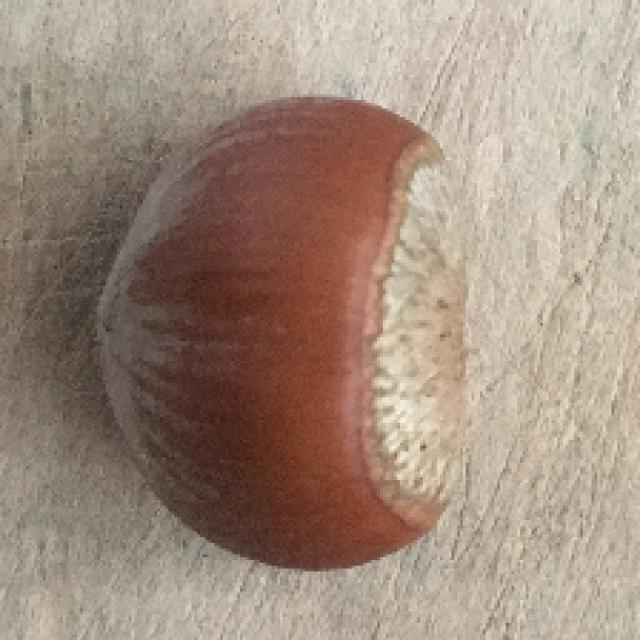qualityHazelnut: (88, 97, 489, 570)
